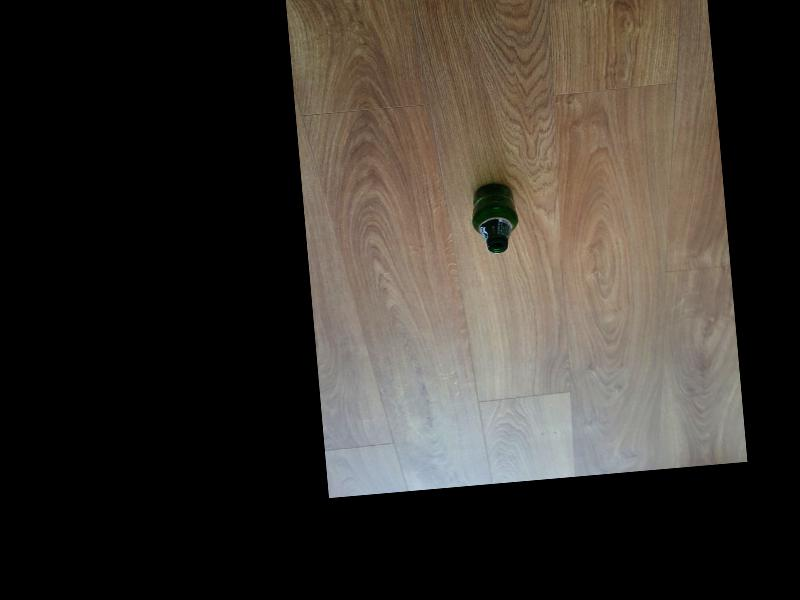Beer: (470, 180, 523, 254)
